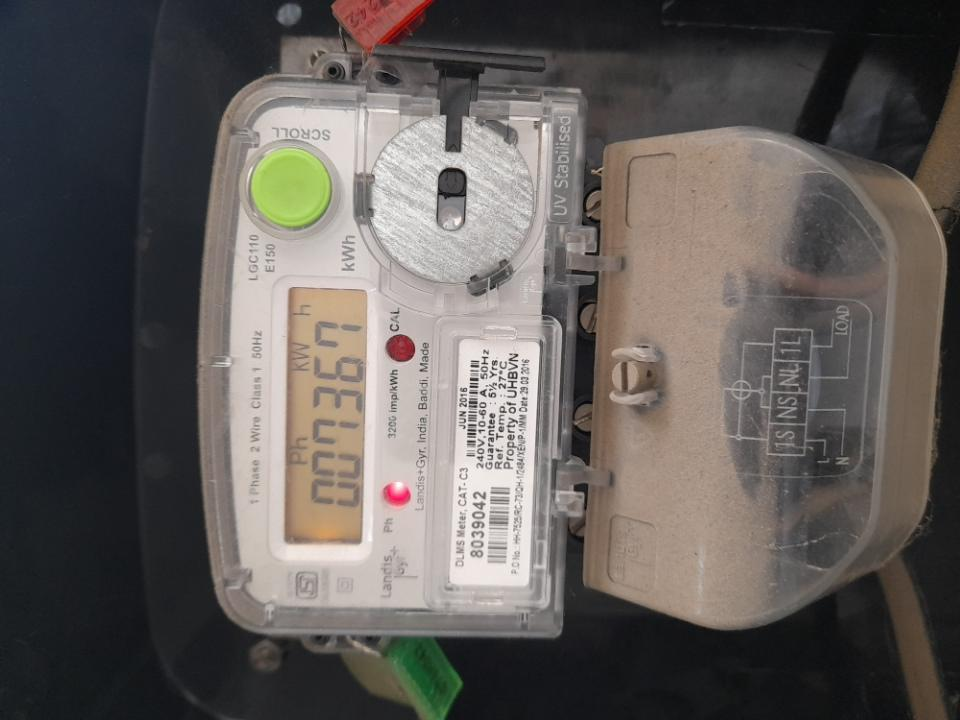.: (459, 217, 561, 236)
1: (286, 228, 324, 273), (321, 227, 359, 272)
4: (413, 230, 445, 273)
7: (447, 232, 486, 272)
8: (368, 230, 408, 274), (494, 234, 534, 272)
